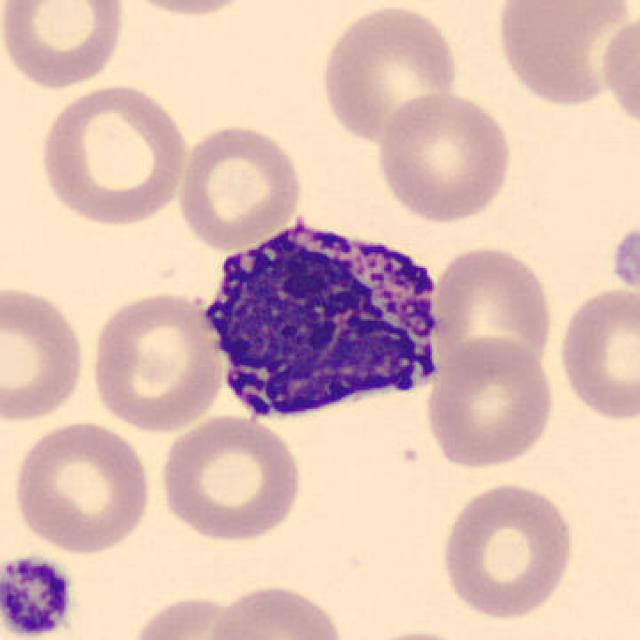Basophil: (188, 205, 457, 430)
Platelets: (0, 550, 76, 640), (606, 224, 638, 294)
RBC: (36, 80, 192, 228), (316, 2, 462, 146), (87, 287, 228, 434), (436, 478, 578, 622), (372, 86, 518, 226), (154, 411, 306, 545), (9, 416, 155, 555), (422, 331, 558, 471), (427, 240, 558, 381), (172, 120, 306, 252), (490, 0, 634, 111), (0, 280, 89, 427), (553, 284, 638, 425), (0, 0, 130, 92), (204, 580, 348, 640), (124, 590, 263, 640), (598, 10, 638, 136), (110, 0, 264, 19), (345, 626, 492, 640)
